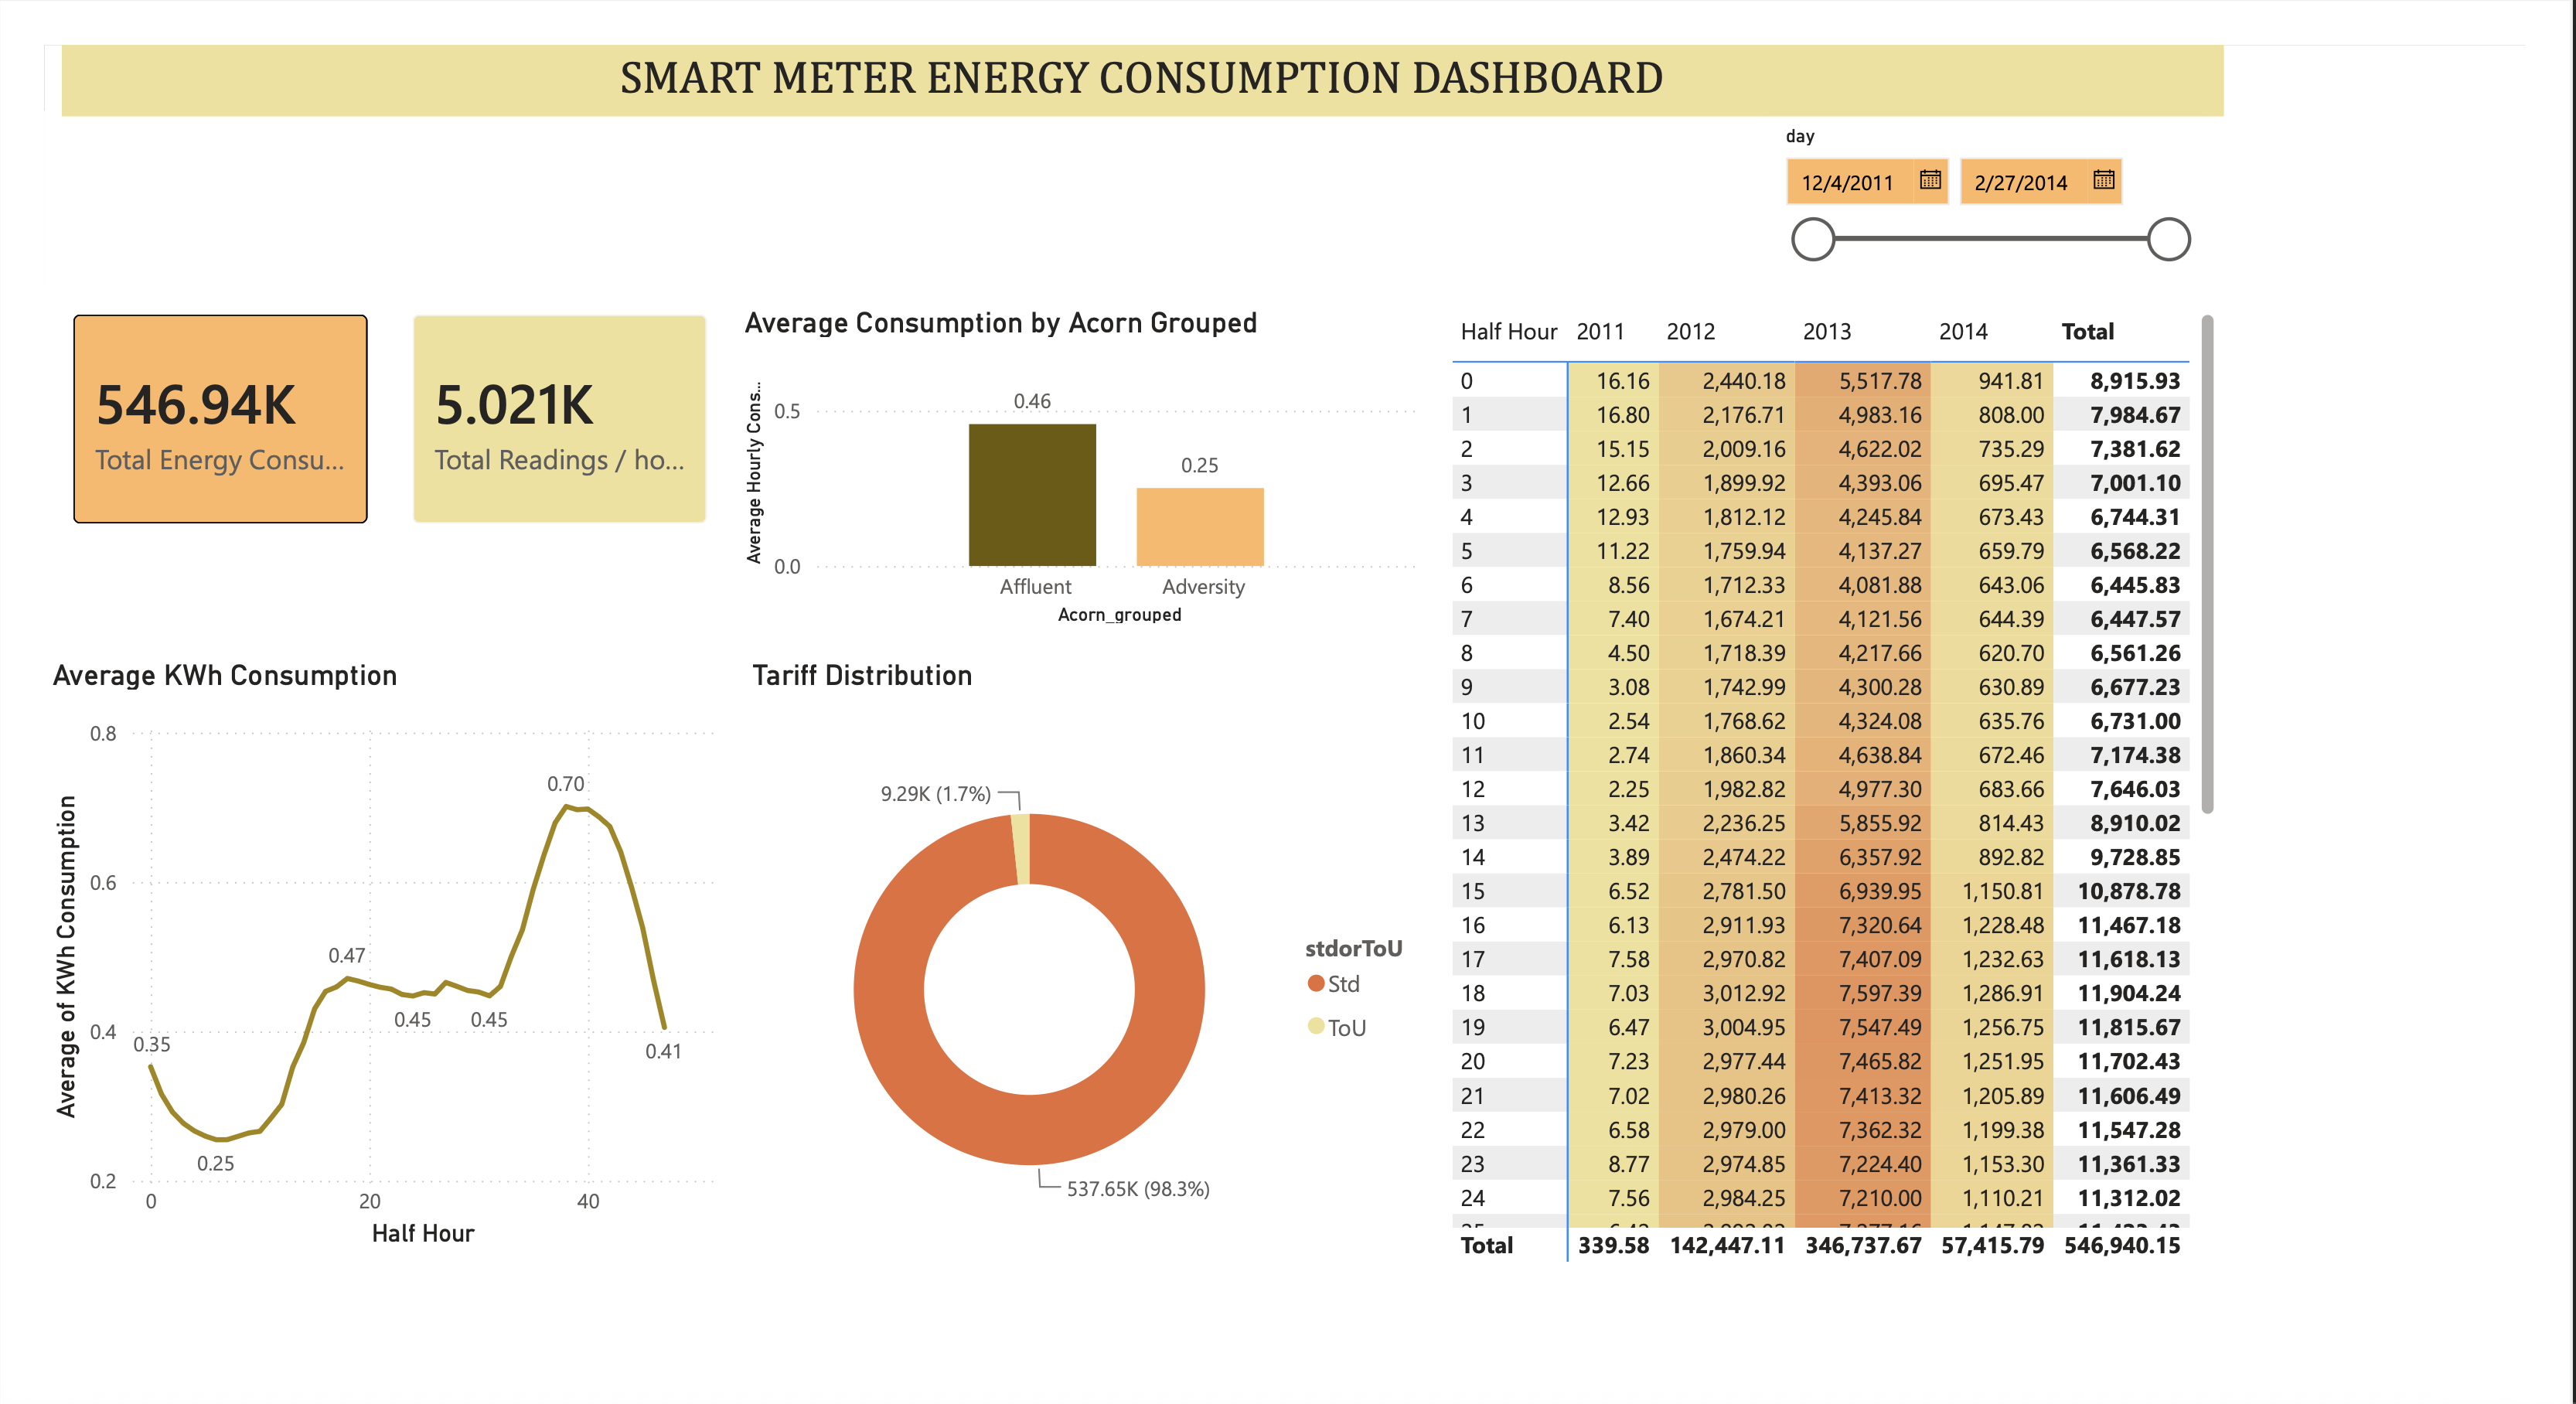

The dashboard page shown, as its layout file describes it:
{"tool":"powerbi","page":{"name":"Page 1","canvas":[1280,720],"ordinal":0},"visuals":[{"type":"textbox","box":[10.2,0,1269.8,42.1],"z":0},{"type":"cardVisual","fields":{"Data":["Sum(block_0.KWh Consumption)"]},"box":[0,141.2,207.3,157.2],"z":1},{"type":"cardVisual","fields":{"Data":["Count(block_0.KWh Consumption)"]},"box":[199.3,141.2,207,157],"z":2},{"type":"lineChart","title":"Average KWh Consumption","fields":{"Category":["block_0.Half Hour"],"Y":["Avg(block_0.KWh Consumption)"]},"box":[0,359.9,398.6,350.7],"z":3},{"type":"clusteredColumnChart","title":"Average  Consumption by Acorn Grouped","fields":{"Y":["Avg(block_0.KWh Consumption)"],"Category":["informations_households.Acorn_grouped"]},"box":[406.5,152.6,407.7,192.5],"z":4},{"type":"donutChart","title":"Tariff Distribution","fields":{"Category":["informations_households.stdorToU"],"Y":["Sum(block_0.KWh Consumption)"]},"box":[411.1,359.9,411.1,359.9],"z":5},{"type":"pivotTable","fields":{"Values":["Sum(block_0.KWh Consumption)"],"Rows":["block_0.Half Hour"],"Columns":["block_0.day.Variation.Date Hierarchy.Year","block_0.day.Variation.Date Hierarchy.Quarter","block_0.day.Variation.Date Hierarchy.Month","block_0.day.Variation.Date Hierarchy.Day"]},"box":[822.2,152.6,457.8,567.1],"z":6},{"type":"slicer","fields":{"Values":["block_0.day"]},"box":[1010.1,42.1,258.5,99.1],"z":7}]}

Visuals, with their boxes on the page's 1280x720 design canvas (x1, y1, x2, y2). These are canvas units, not pixel positions in the 2576x1404 screenshot, which may show the page scaled, cropped or inside an application window:
textbox: <region>10, 0, 1280, 42</region>
cardVisual - Sum(block_0.KWh Consumption): <region>0, 141, 207, 298</region>
cardVisual - Count(block_0.KWh Consumption): <region>199, 141, 406, 298</region>
"Average KWh Consumption" lineChart: <region>0, 360, 399, 711</region>
"Average  Consumption by Acorn Grouped" clusteredColumnChart: <region>406, 153, 814, 345</region>
"Tariff Distribution" donutChart: <region>411, 360, 822, 720</region>
pivotTable - Sum(block_0.KWh Consumption) x block_0.Half Hour: <region>822, 153, 1280, 720</region>
slicer - block_0.day: <region>1010, 42, 1269, 141</region>
